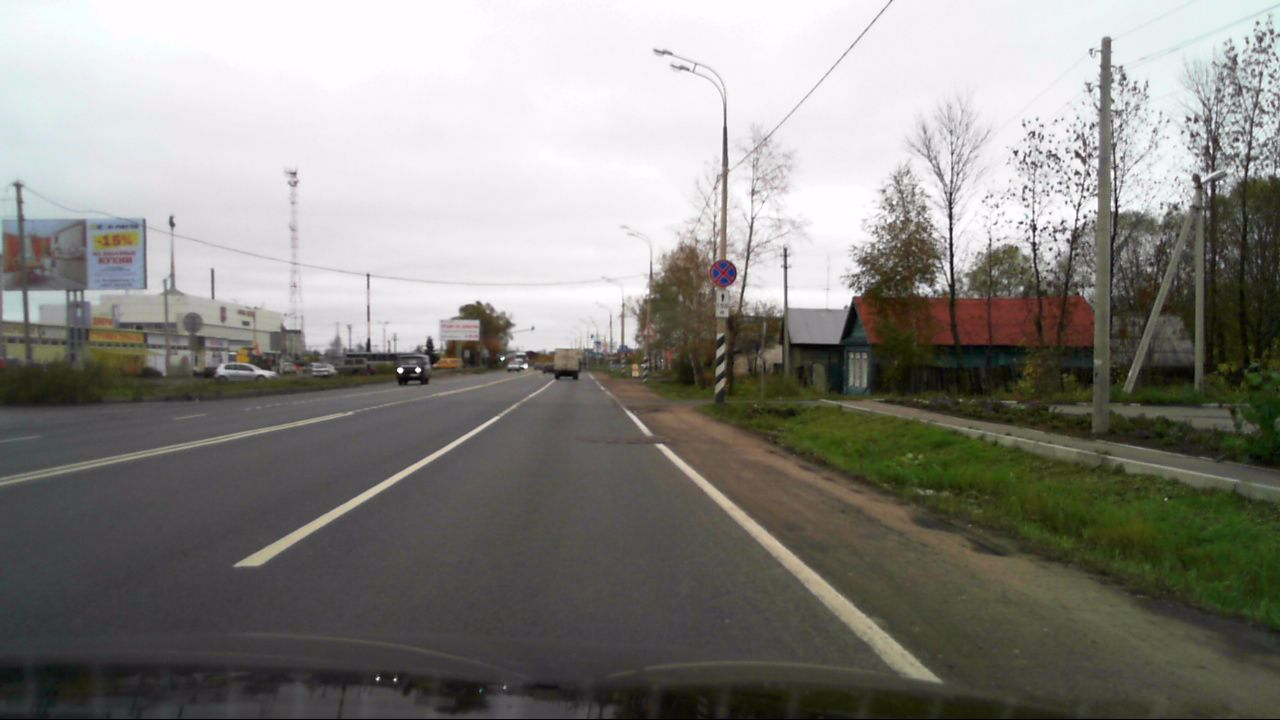No Parking: (709, 260, 736, 288)
